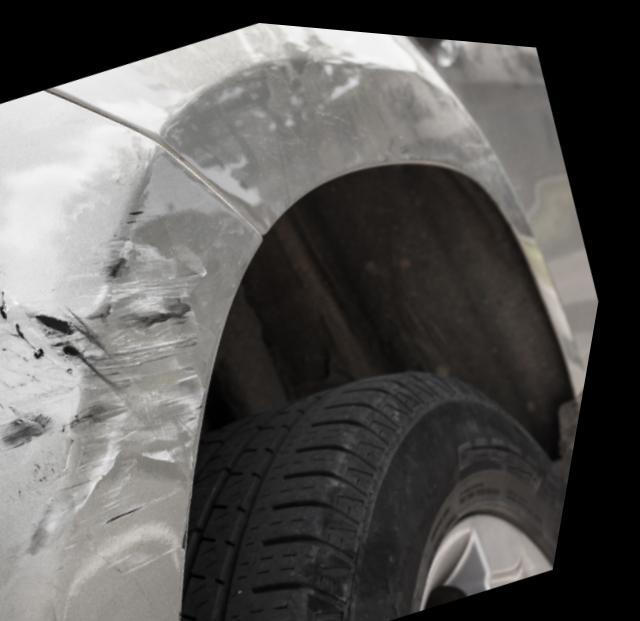scratch: (0, 156, 225, 609)
